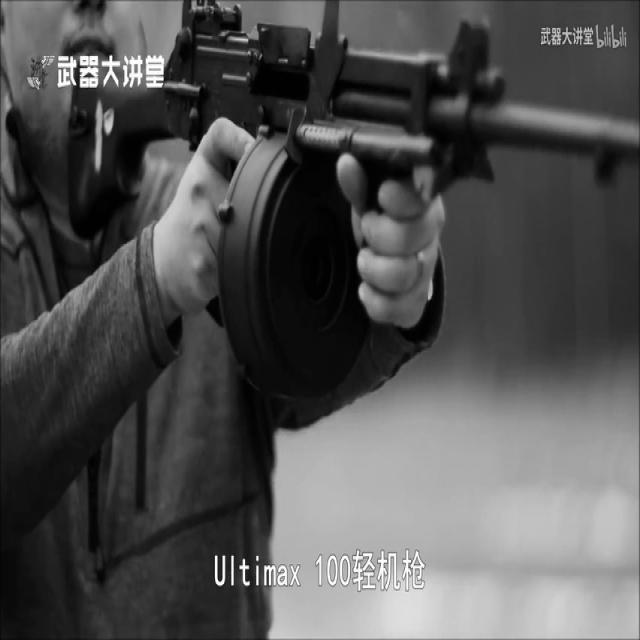Sniper: (0, 0, 640, 380)
